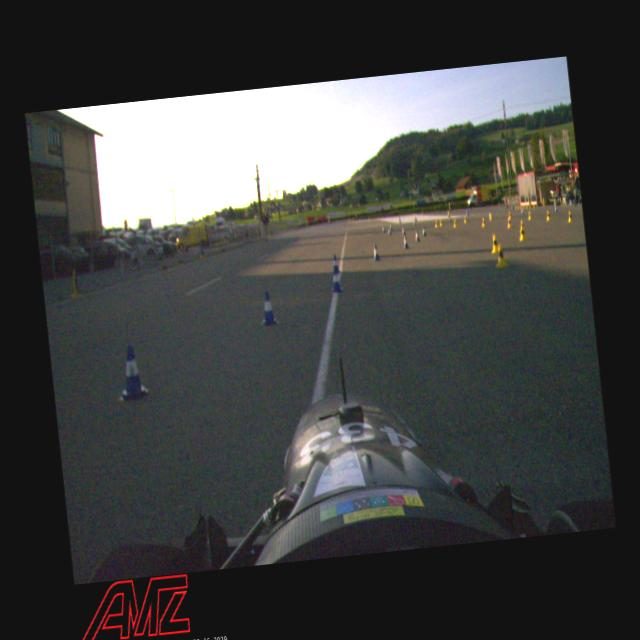blue_cone: (112, 341, 149, 407), (258, 288, 279, 328), (329, 267, 343, 293), (330, 253, 341, 274), (370, 244, 380, 262), (402, 234, 408, 248), (414, 229, 419, 242), (421, 224, 426, 237), (387, 226, 391, 235), (402, 226, 406, 234), (554, 205, 557, 212)
yellow_cone: (66, 267, 84, 301), (493, 242, 507, 268), (490, 233, 500, 253), (516, 225, 526, 242), (518, 218, 526, 234), (566, 210, 574, 223), (506, 217, 512, 230), (480, 216, 486, 228), (545, 210, 551, 222), (526, 210, 532, 220), (452, 218, 456, 228), (508, 210, 512, 220), (434, 219, 438, 228), (438, 218, 442, 227), (463, 215, 467, 224), (488, 212, 492, 220)
